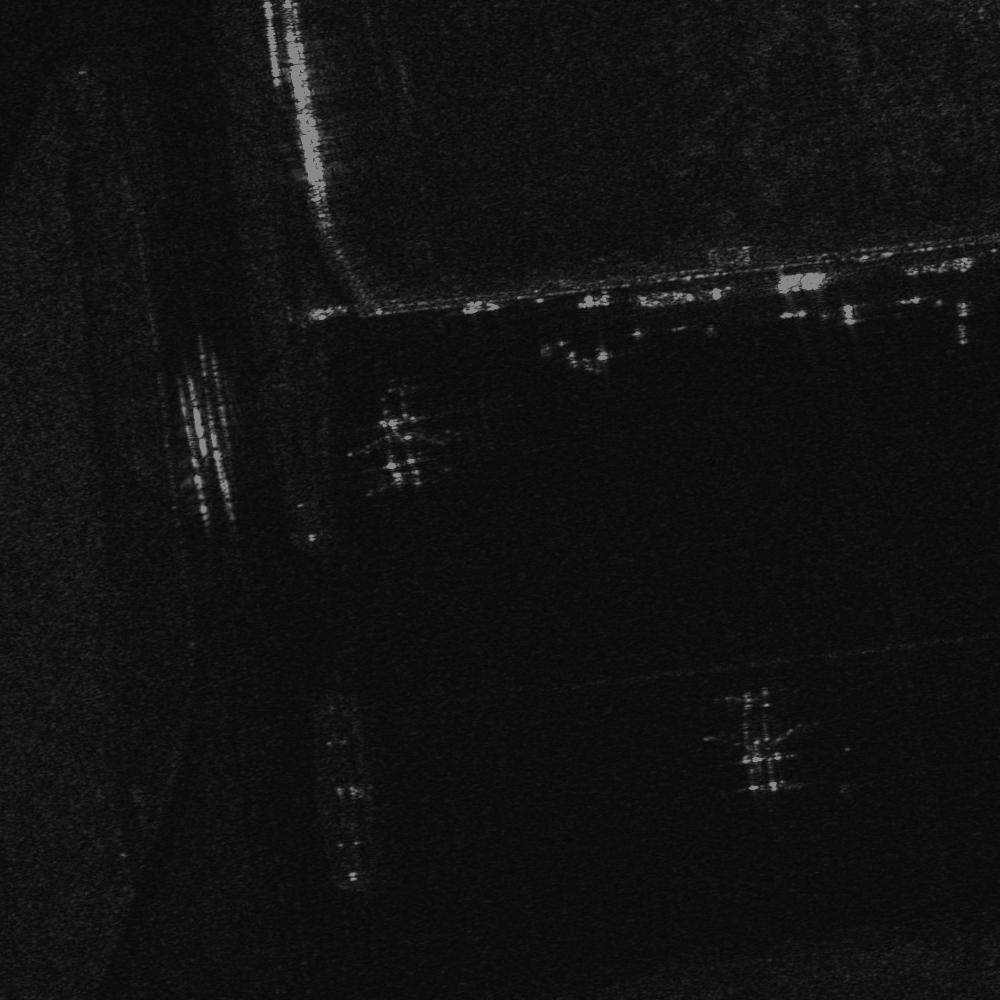A220: (345, 394, 452, 500)
A330: (709, 680, 816, 791)
